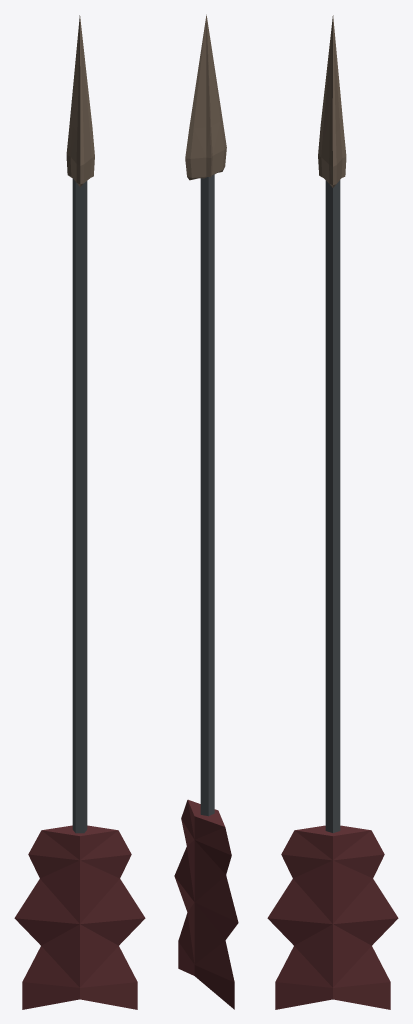
Rendered from _arrow_b_6.glb.
The picture shows the model from 3 angles, left to right: view 1: azimuth 90°, elevation 25°; view 2: azimuth 210°, elevation 25°; view 3: azimuth 270°, elevation 25°; orthographic projection. The views are drawn at different scales.
Parts seen in each view (by area): view 1: arrow_b_6; view 2: arrow_b_6; view 3: arrow_b_6.
Part boxes in pixels (box(x1,y1,x2,y2)): arrow_b_6: box(14, 15, 145, 1009); arrow_b_6: box(174, 14, 238, 1009); arrow_b_6: box(267, 15, 398, 1009).
Bounding box in the file's own units: 1120 × 24940 × 2977.
1 material, 1 textured.
